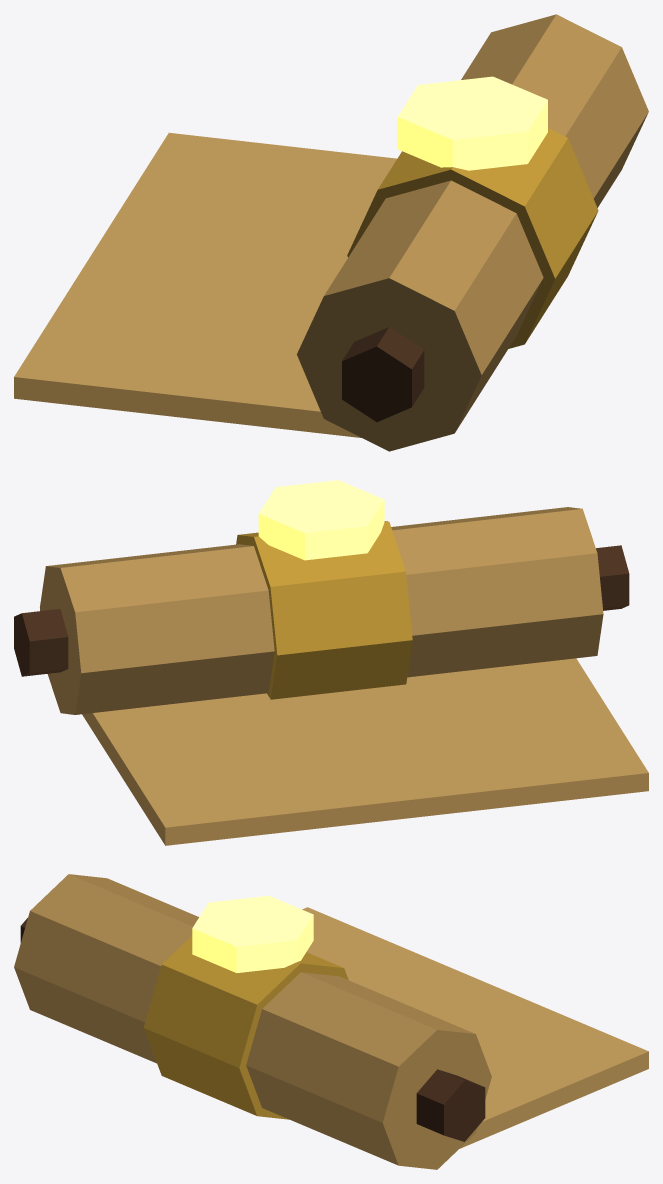
Rendered from scroll_of_divine_light.glb.
The picture shows the model from 3 angles, top to bottom: view 1: azimuth 30°, elevation 25°; view 2: azimuth 150°, elevation 25°; view 3: azimuth 270°, elevation 25°; orthographic projection. The views are drawn at different scales.
Parts seen in each view (by area): view 1: scroll_of_divine_light; view 2: scroll_of_divine_light; view 3: scroll_of_divine_light.
Boxes of the visible parts, left/top/right/bottom form: scroll_of_divine_light: left=14, top=14, right=648, bottom=451; scroll_of_divine_light: left=14, top=480, right=648, bottom=845; scroll_of_divine_light: left=14, top=874, right=648, bottom=1169.
Bounding box in the file's own units: 0.822 × 0.2563 × 0.822.
